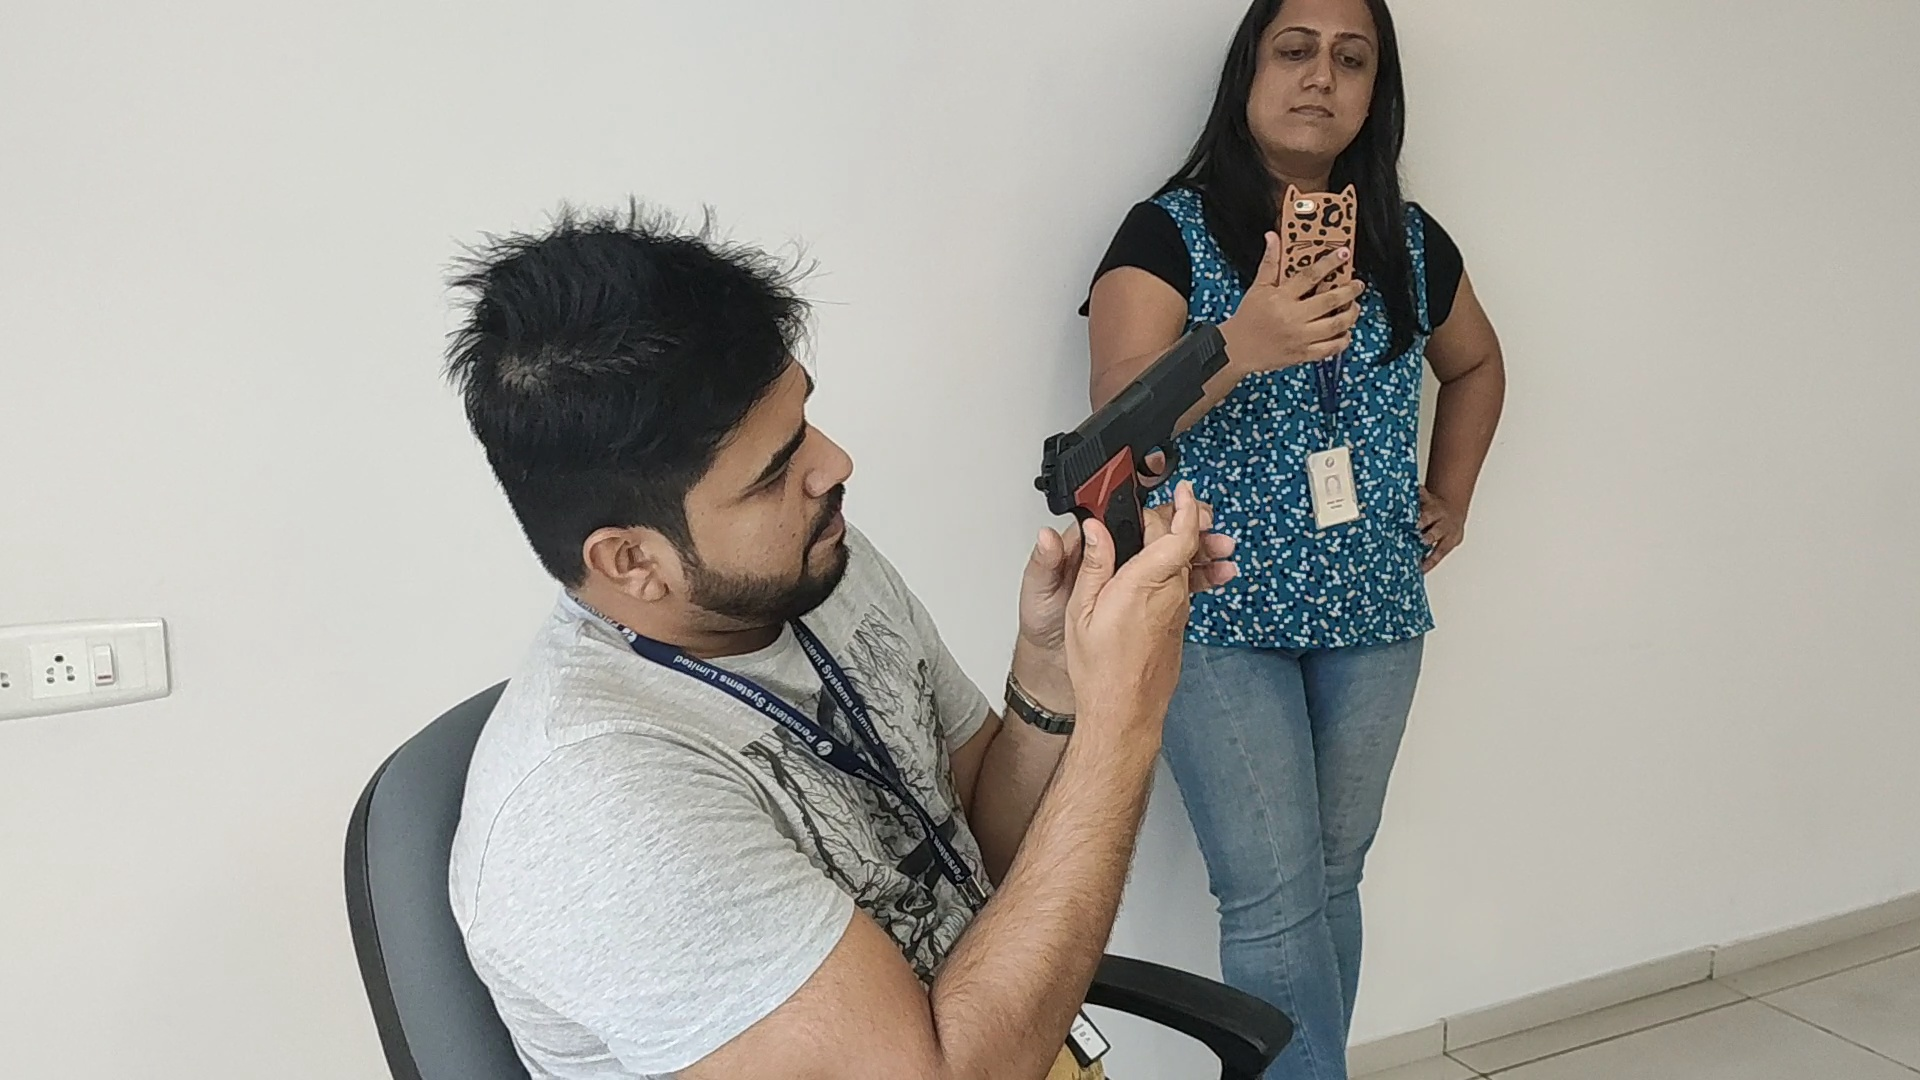gun: (1033, 320, 1232, 479)
